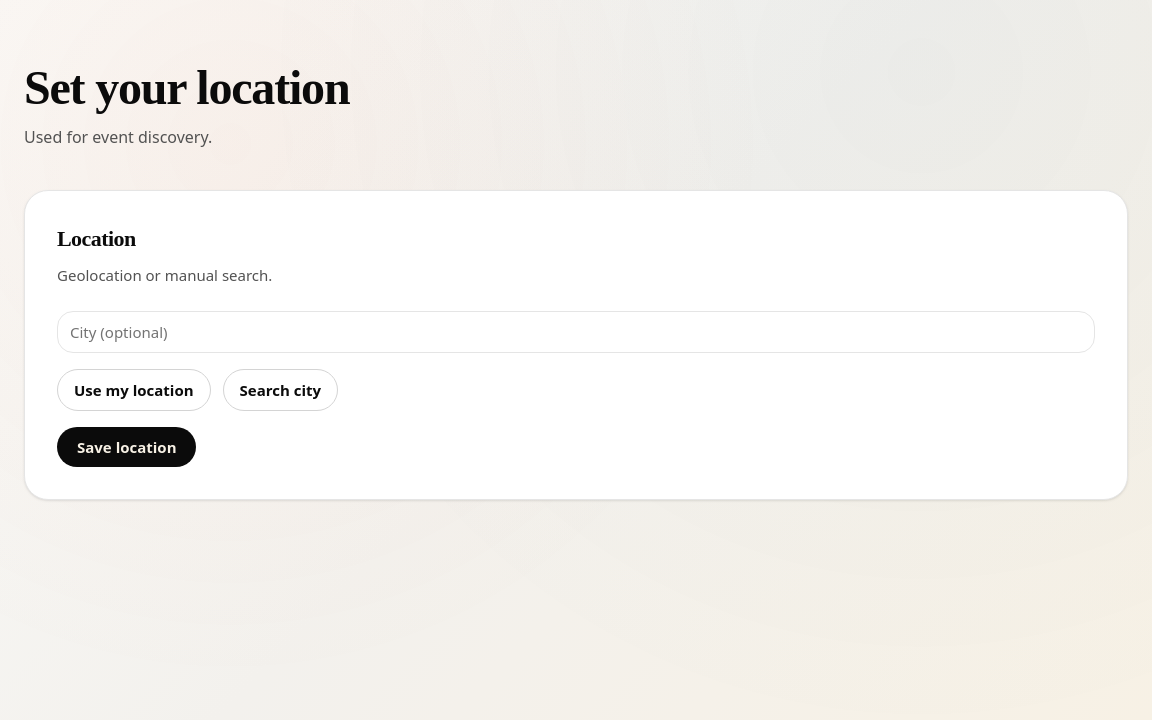
Test case: LocationOnboardingPage — geolocation and search branches › reports unsupported geolocation and denied access
Click the button "Use my location". click: (134, 390)
box: [57, 369, 211, 411]
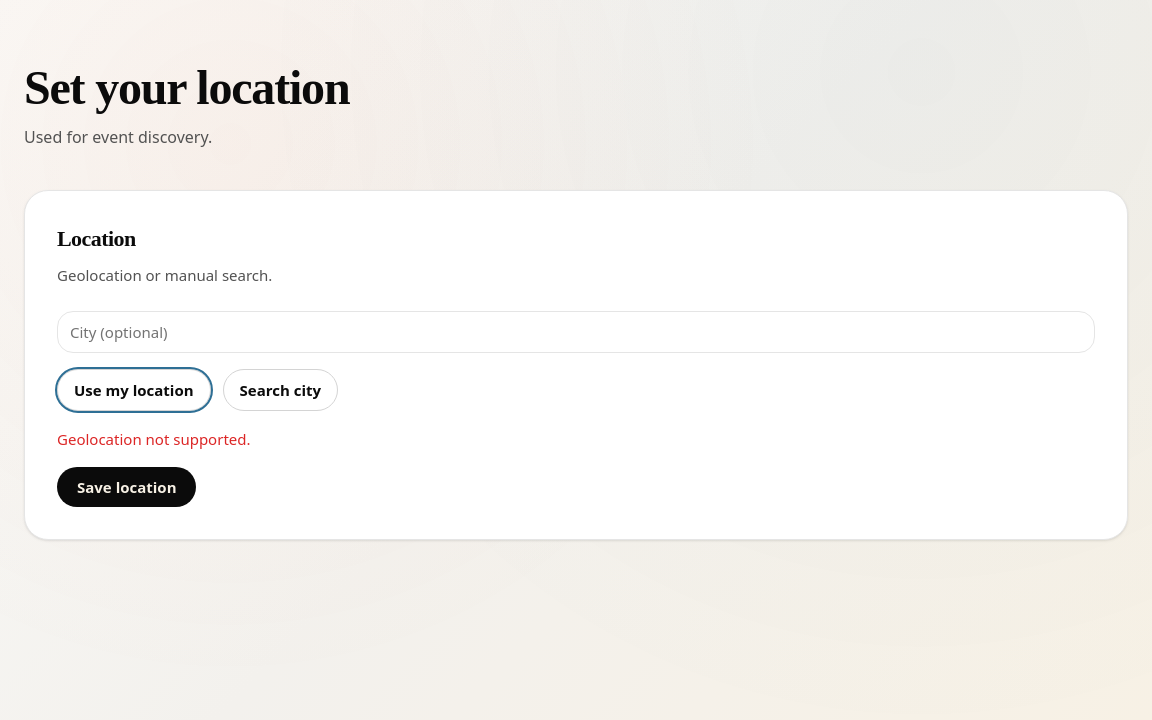
Now the text "Geolocation not supported." is shown, box [57, 429, 250, 449]
Click the button "Use my location". click: (134, 390)
box: [57, 369, 211, 411]
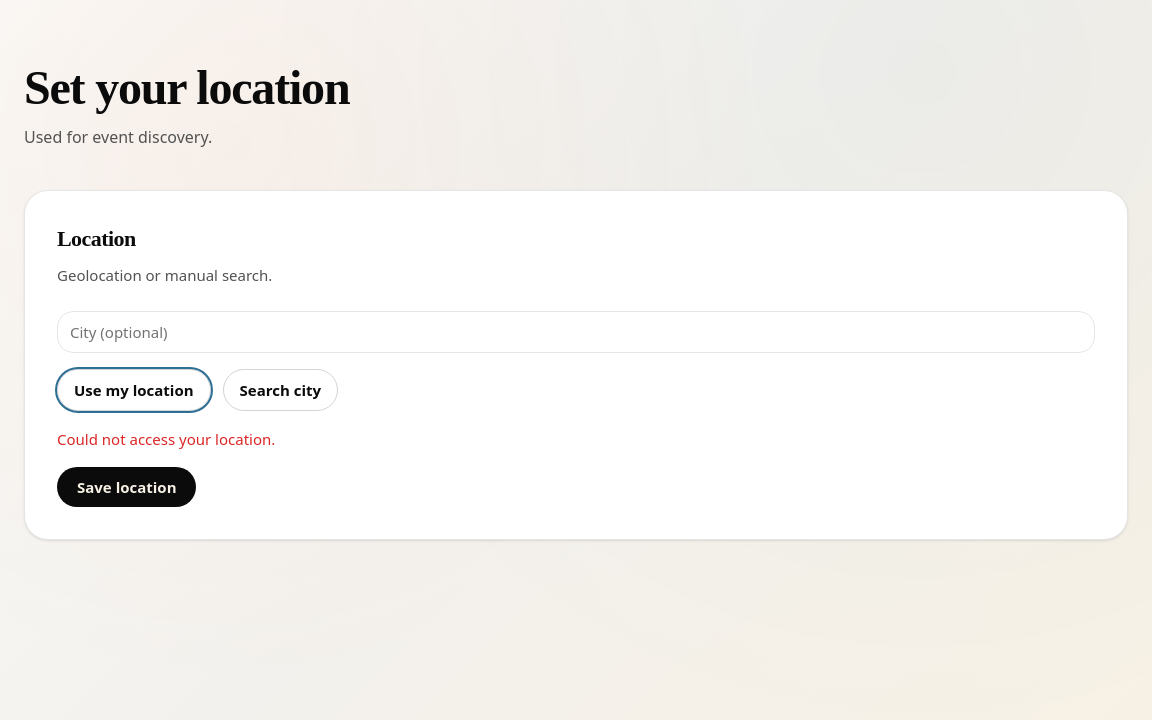
Now the text "Could not access your location." is shown, box [57, 429, 275, 449]
